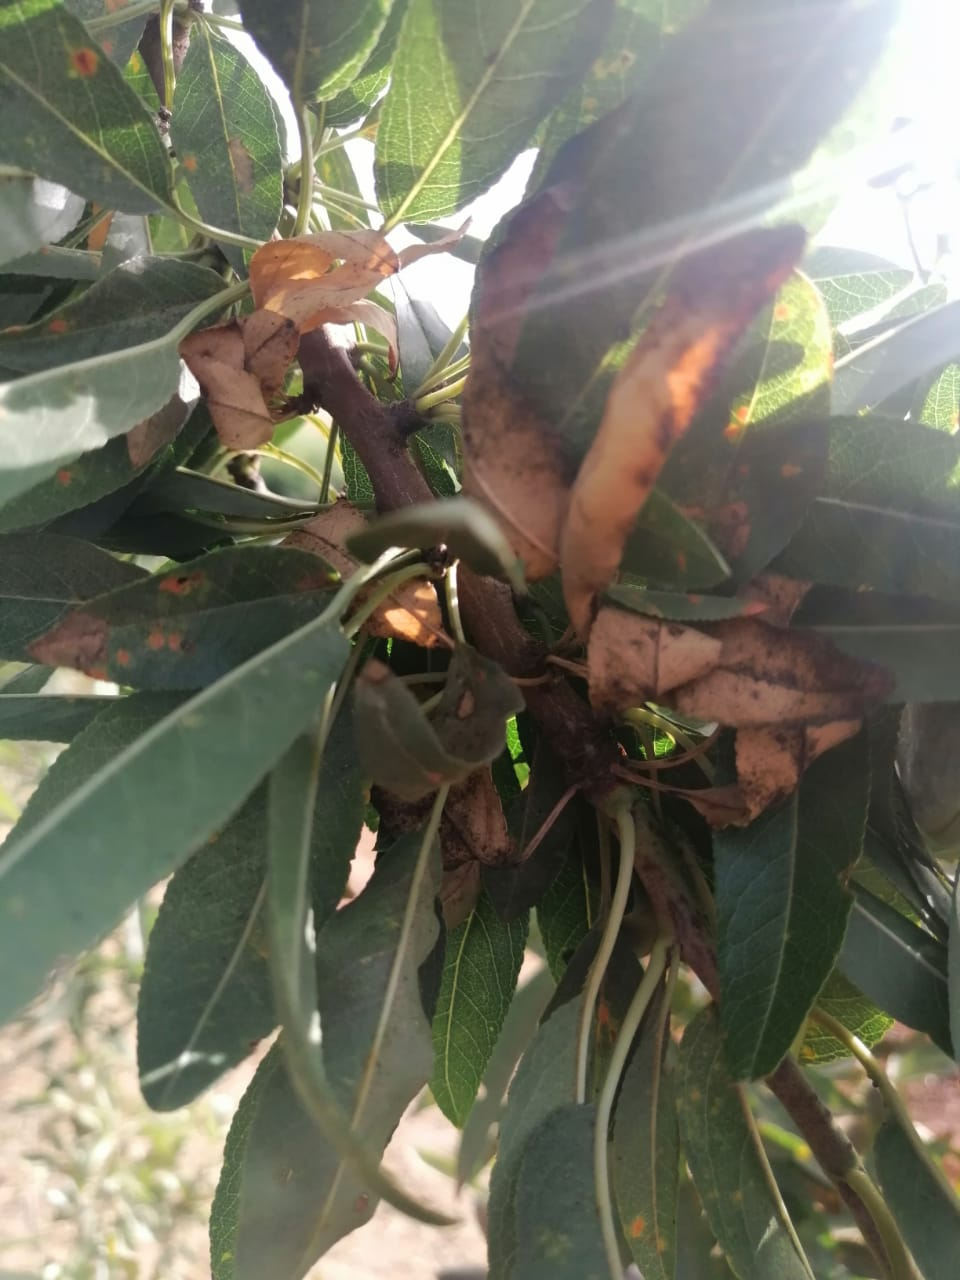scolytes: (425, 223, 867, 830), (190, 213, 472, 461)
